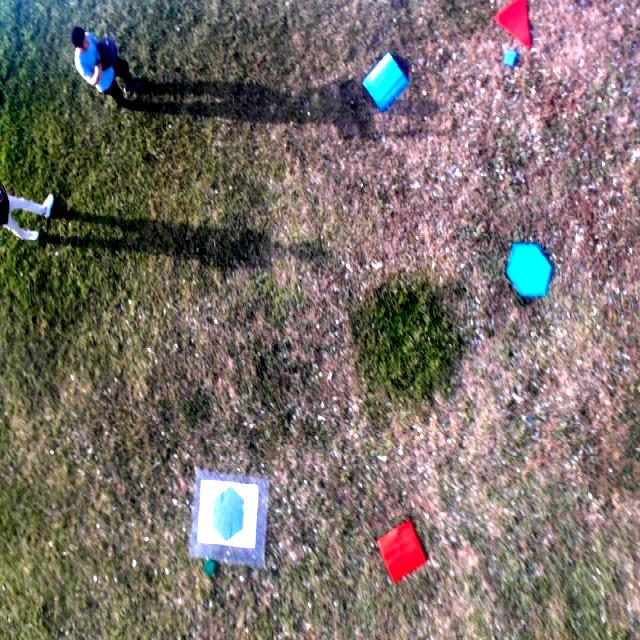blue_hexagon: (506, 240, 553, 300), (211, 486, 245, 543)
blue_square: (360, 51, 410, 114)
red_square: (376, 520, 427, 585)
red_triangle: (491, 0, 531, 53)
